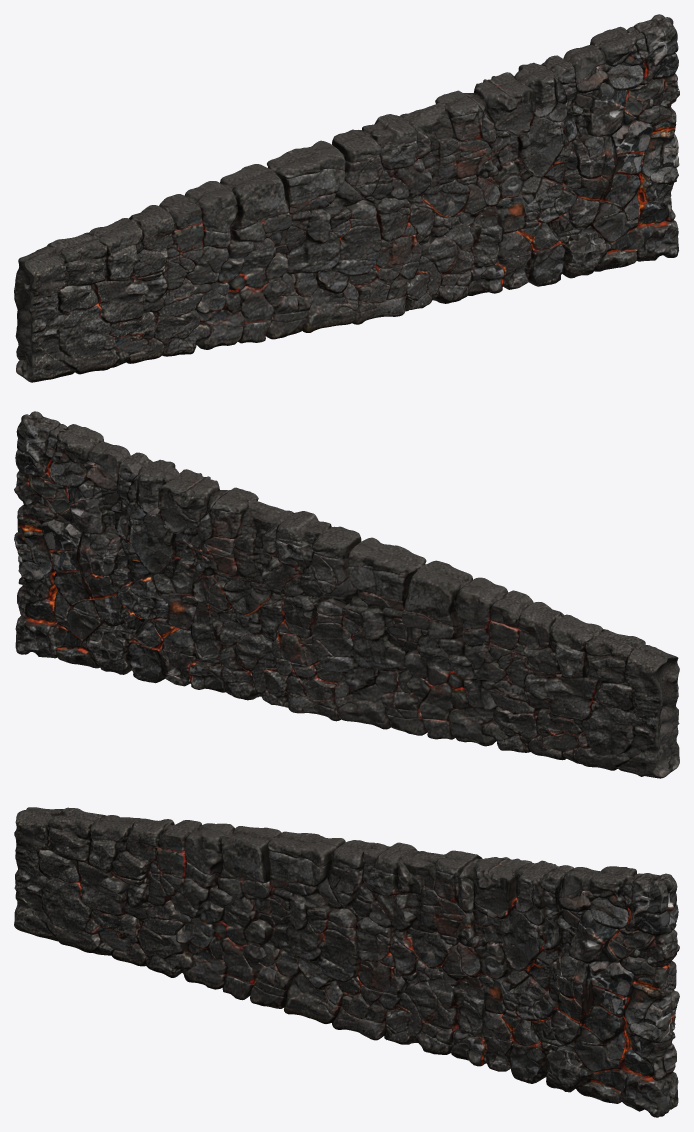
File: venus_cliff_wall.glb
3 views of the same model, one above another, from view 1: azimuth 30°, elevation 25°; view 2: azimuth 150°, elevation 25°; view 3: azimuth 330°, elevation 25° (orthographic).
Visible parts, largest first — view 1: tripo_node_4e8636ce-9691-43e1-8c5d-480584ba531f; view 2: tripo_node_4e8636ce-9691-43e1-8c5d-480584ba531f; view 3: tripo_node_4e8636ce-9691-43e1-8c5d-480584ba531f.
Part boxes in pixels (x1,y1,x2,y2): tripo_node_4e8636ce-9691-43e1-8c5d-480584ba531f: [14, 14, 679, 382]; tripo_node_4e8636ce-9691-43e1-8c5d-480584ba531f: [14, 411, 679, 778]; tripo_node_4e8636ce-9691-43e1-8c5d-480584ba531f: [14, 807, 679, 1117].
Bounding box in the file's own units: 0.9819 × 0.3348 × 0.0874.
Materials: 1 (1 with a texture image).
